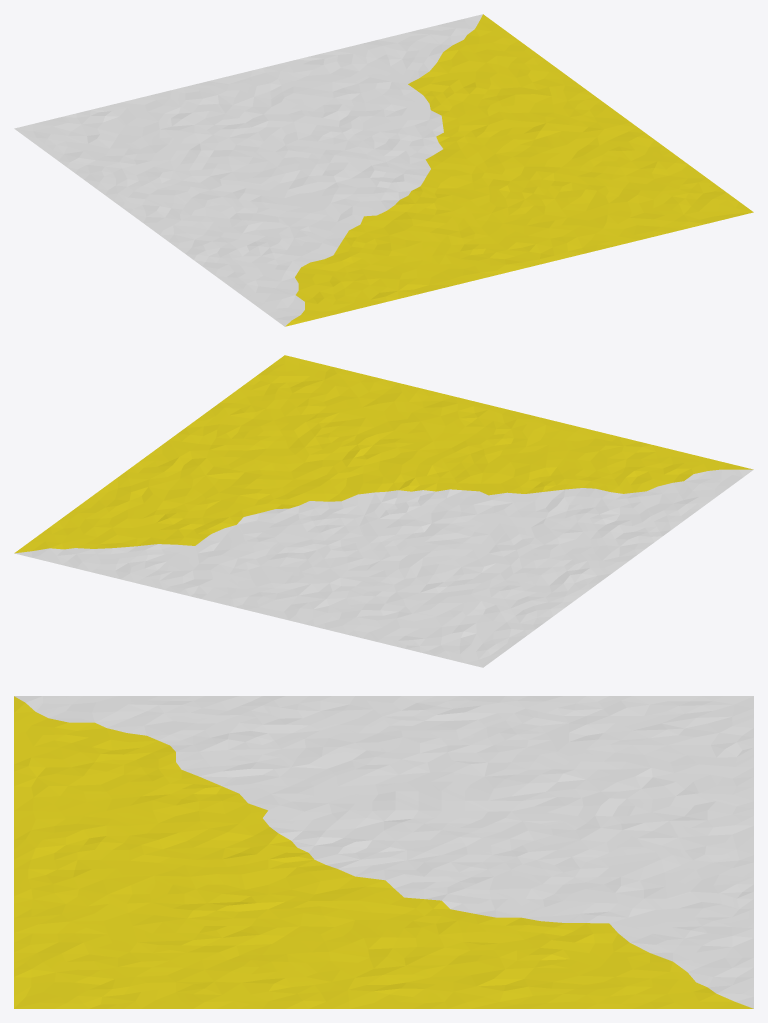
File: CPT_Terrain_L_a_14_LOD.fbx
The picture shows the model from 3 angles, top to bottom: view 1: azimuth 30°, elevation 25°; view 2: azimuth 150°, elevation 25°; view 3: azimuth 270°, elevation 25°; orthographic projection. The views are drawn at different scales.
Parts seen in each view (by area): view 1: CPT_Terrain_L_a_14_LOD0; view 2: CPT_Terrain_L_a_14_LOD0; view 3: CPT_Terrain_L_a_14_LOD0.
Boxes of the visible parts, <box> form: CPT_Terrain_L_a_14_LOD0: <box>14,14,753,326</box>; CPT_Terrain_L_a_14_LOD0: <box>14,355,753,667</box>; CPT_Terrain_L_a_14_LOD0: <box>14,696,753,1008</box>.
Size of what is drawn, in the model's own units: 10000 by 20 by 10000.
